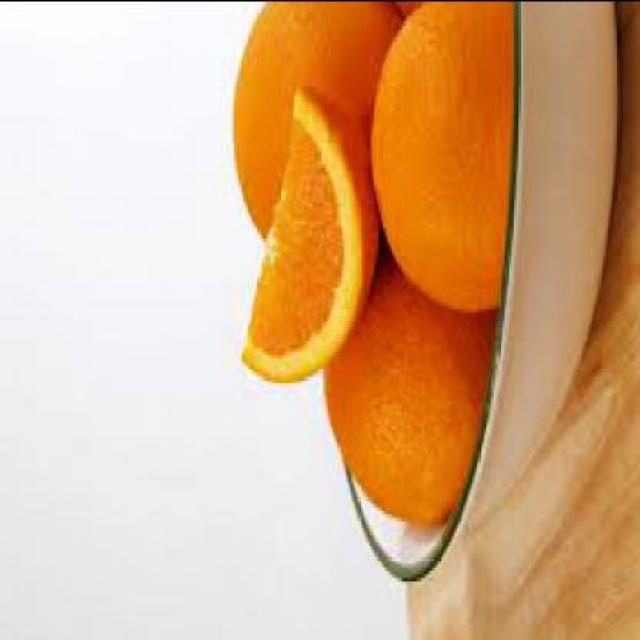BIODEGRADABLE: (231, 2, 406, 266), (322, 251, 490, 523), (370, 1, 512, 308), (238, 82, 378, 378)
